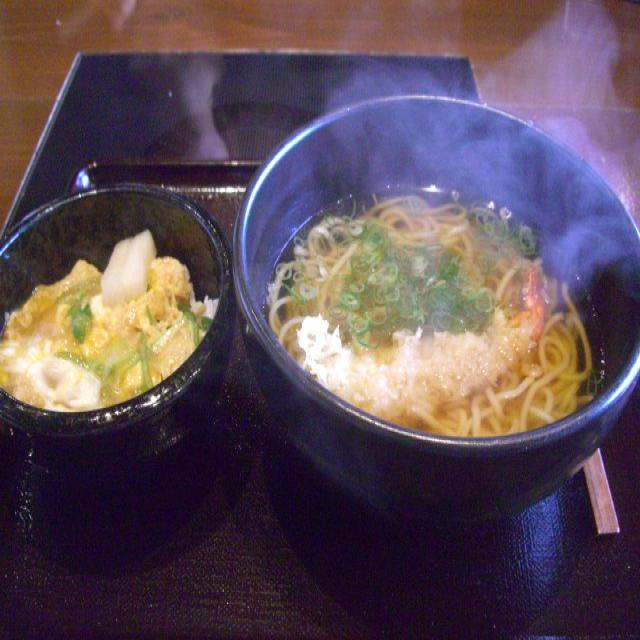面条主食: (265, 174, 601, 446)
